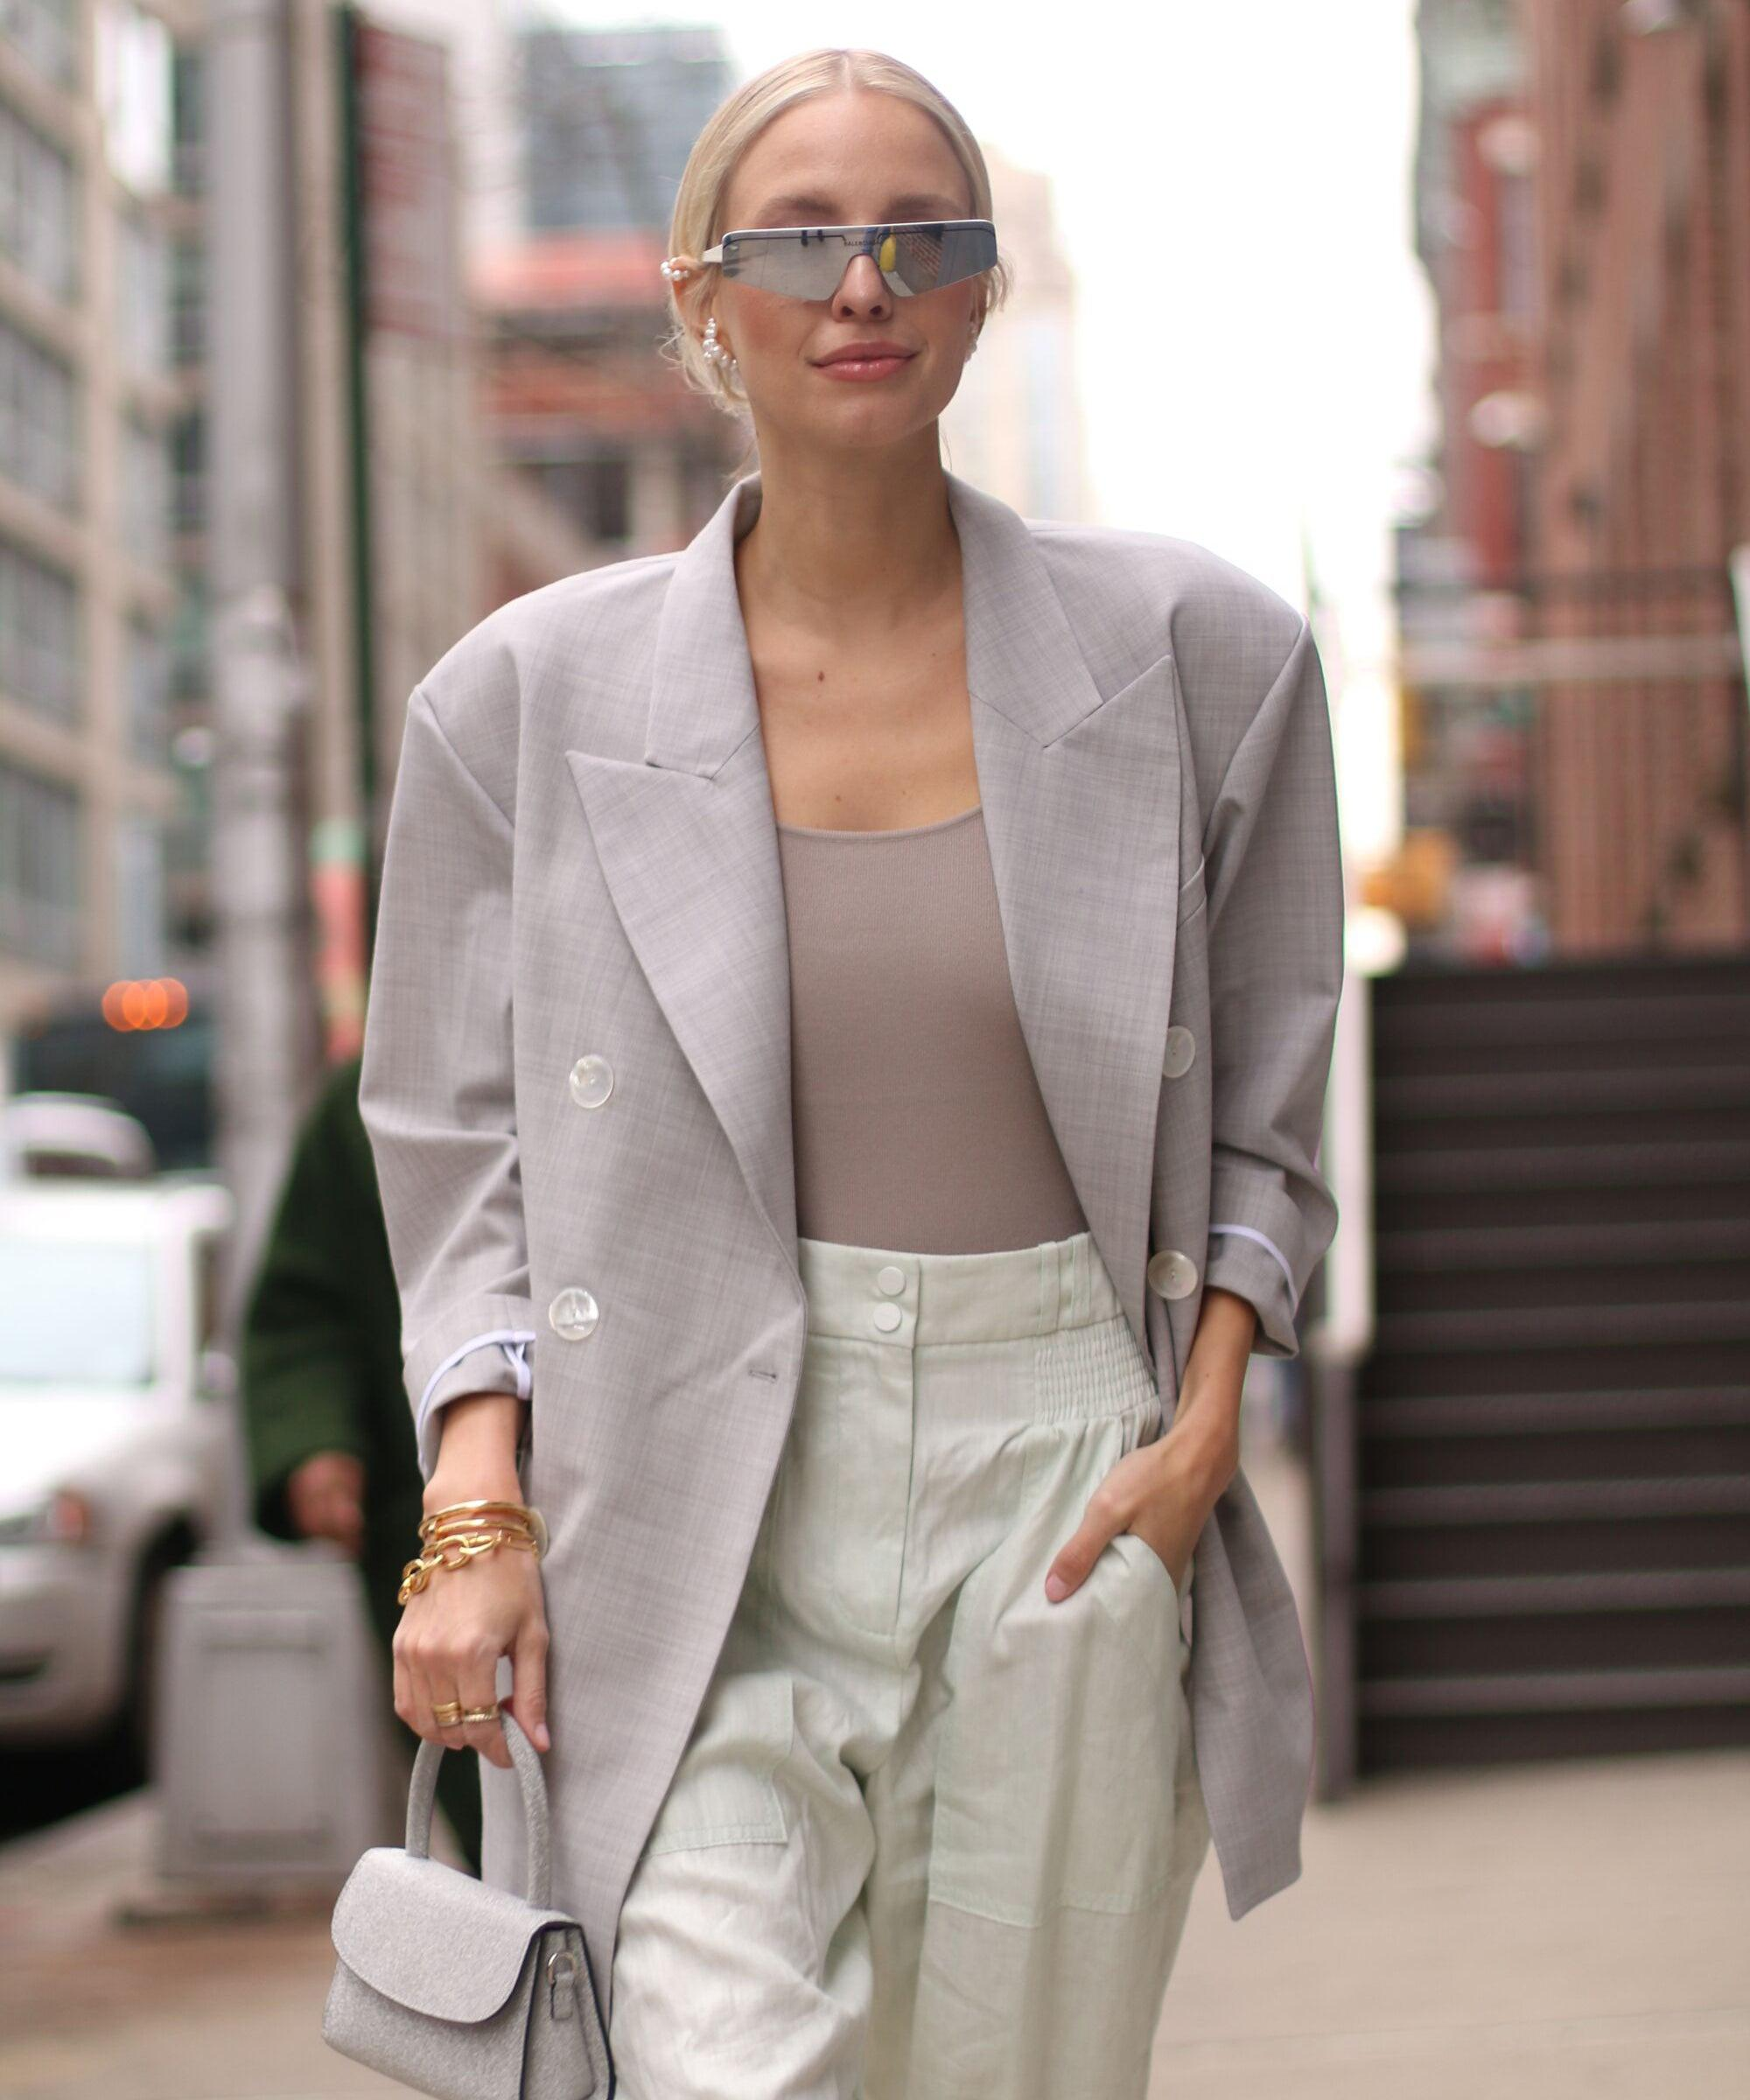handbag: (304, 1676, 637, 2100)
